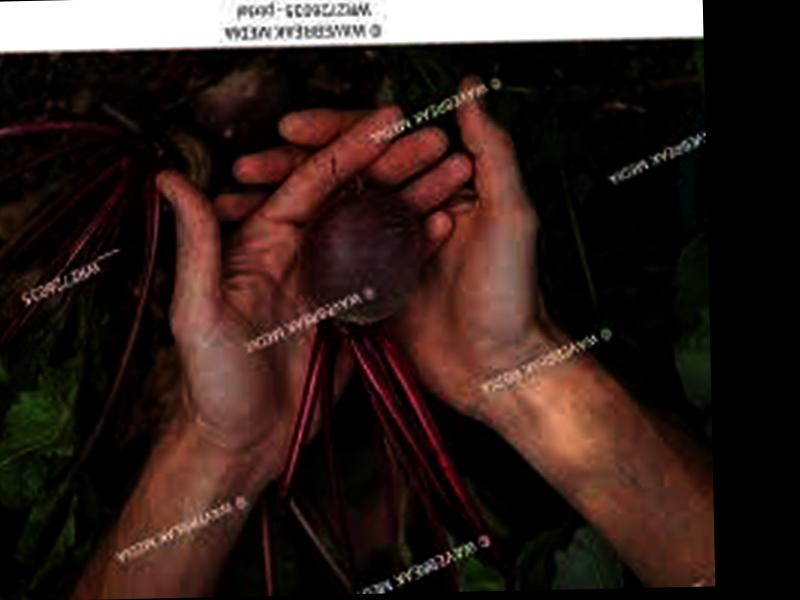Beet: (267, 171, 516, 582)
